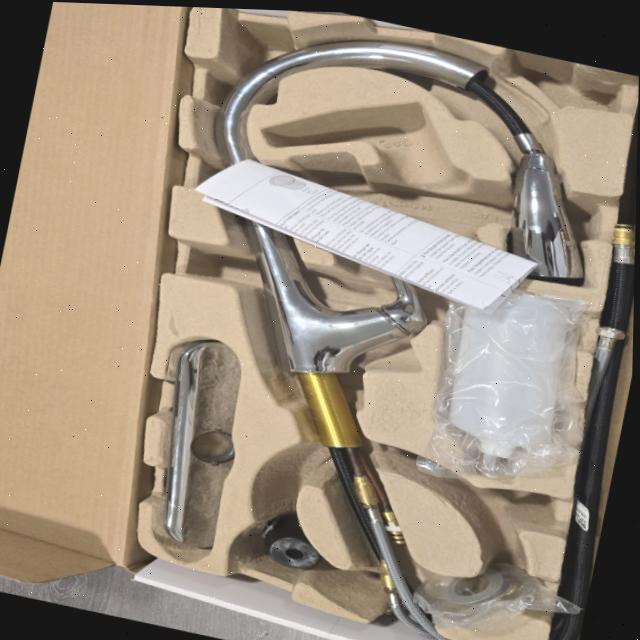1o: (214, 37, 583, 634)
2m: (261, 101, 484, 259)
3o: (447, 281, 574, 476)
4: (163, 340, 241, 547)
5: (257, 515, 318, 568)
6: (409, 555, 584, 629)
7m: (406, 457, 549, 537)
8: (189, 157, 537, 314)
